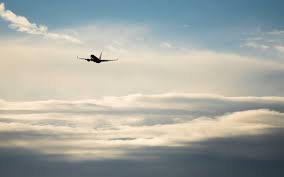plane: (76, 48, 116, 62)
